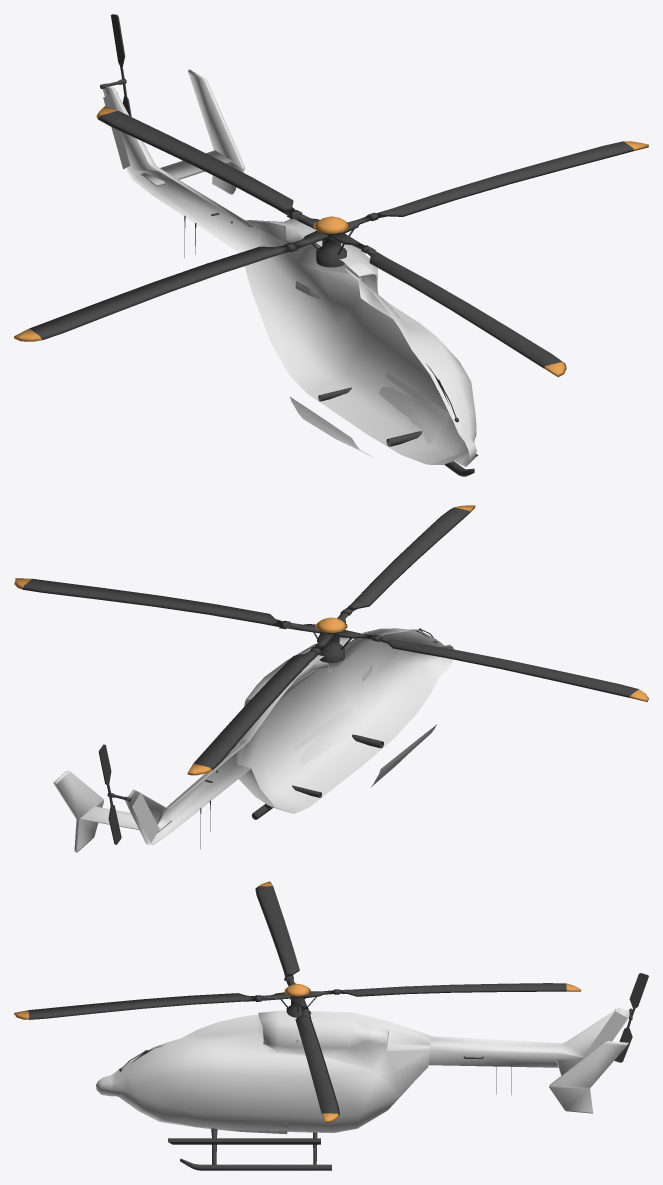
3 views of the same model, one above another, from view 1: azimuth 30°, elevation 25°; view 2: azimuth 150°, elevation 25°; view 3: azimuth 270°, elevation 25° (orthographic). The views are drawn at different scales.
Parts seen in each view (by area): view 1: Plane, Plane.004, Plane.005, Plane.002, Plane.003, Plane.001, decals, Circle, decals.001; view 2: Plane, Plane.003, Plane.005, Plane.004, Plane.002, Plane.001, decals, Circle, Circle.001, Plane.009; view 3: Plane, Plane.001, Plane.002, Plane.005, Plane.003, Plane.004, Cube, Circle.005, Circle.001, Plane.008, Circle.
Boxes of the visible parts, x1,y1,x2,y2 form: Plane: (102, 86, 476, 466); Plane.004: (14, 230, 327, 341); Plane.005: (96, 106, 319, 228); Plane.002: (329, 232, 566, 377); Plane.003: (343, 141, 648, 236); Plane.001: (141, 69, 244, 194); decals: (379, 373, 449, 444); Circle: (313, 216, 349, 267); decals.001: (289, 396, 373, 457); Plane: (125, 628, 453, 844); Plane.003: (14, 578, 320, 638); Plane.005: (187, 631, 333, 775); Plane.004: (334, 630, 648, 701); Plane.002: (337, 505, 475, 623); Plane.001: (53, 770, 171, 852); decals: (294, 703, 369, 765); Circle: (315, 617, 347, 662); Circle.001: (98, 744, 121, 844); Plane.009: (132, 792, 159, 843); Plane: (96, 1008, 629, 1133); Plane.001: (549, 1041, 628, 1113); Plane.002: (14, 992, 291, 1019); Plane.005: (304, 983, 581, 1007); Plane.003: (292, 996, 339, 1122); Plane.004: (255, 881, 299, 986); Cube: (168, 1138, 320, 1144); Circle.005: (180, 1158, 331, 1170); Circle.001: (614, 973, 648, 1062); Plane.008: (586, 1011, 627, 1054); Circle: (284, 984, 310, 1017).
Size of the model in its own units: 10.81 by 12.1 by 3.84.
